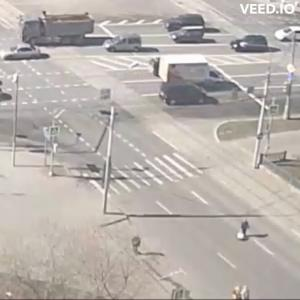car: (157, 53, 237, 88), (19, 12, 97, 46), (160, 83, 220, 110), (105, 37, 149, 58), (231, 34, 276, 54), (165, 12, 204, 31), (1, 47, 46, 63), (173, 28, 207, 45), (276, 28, 300, 43)
